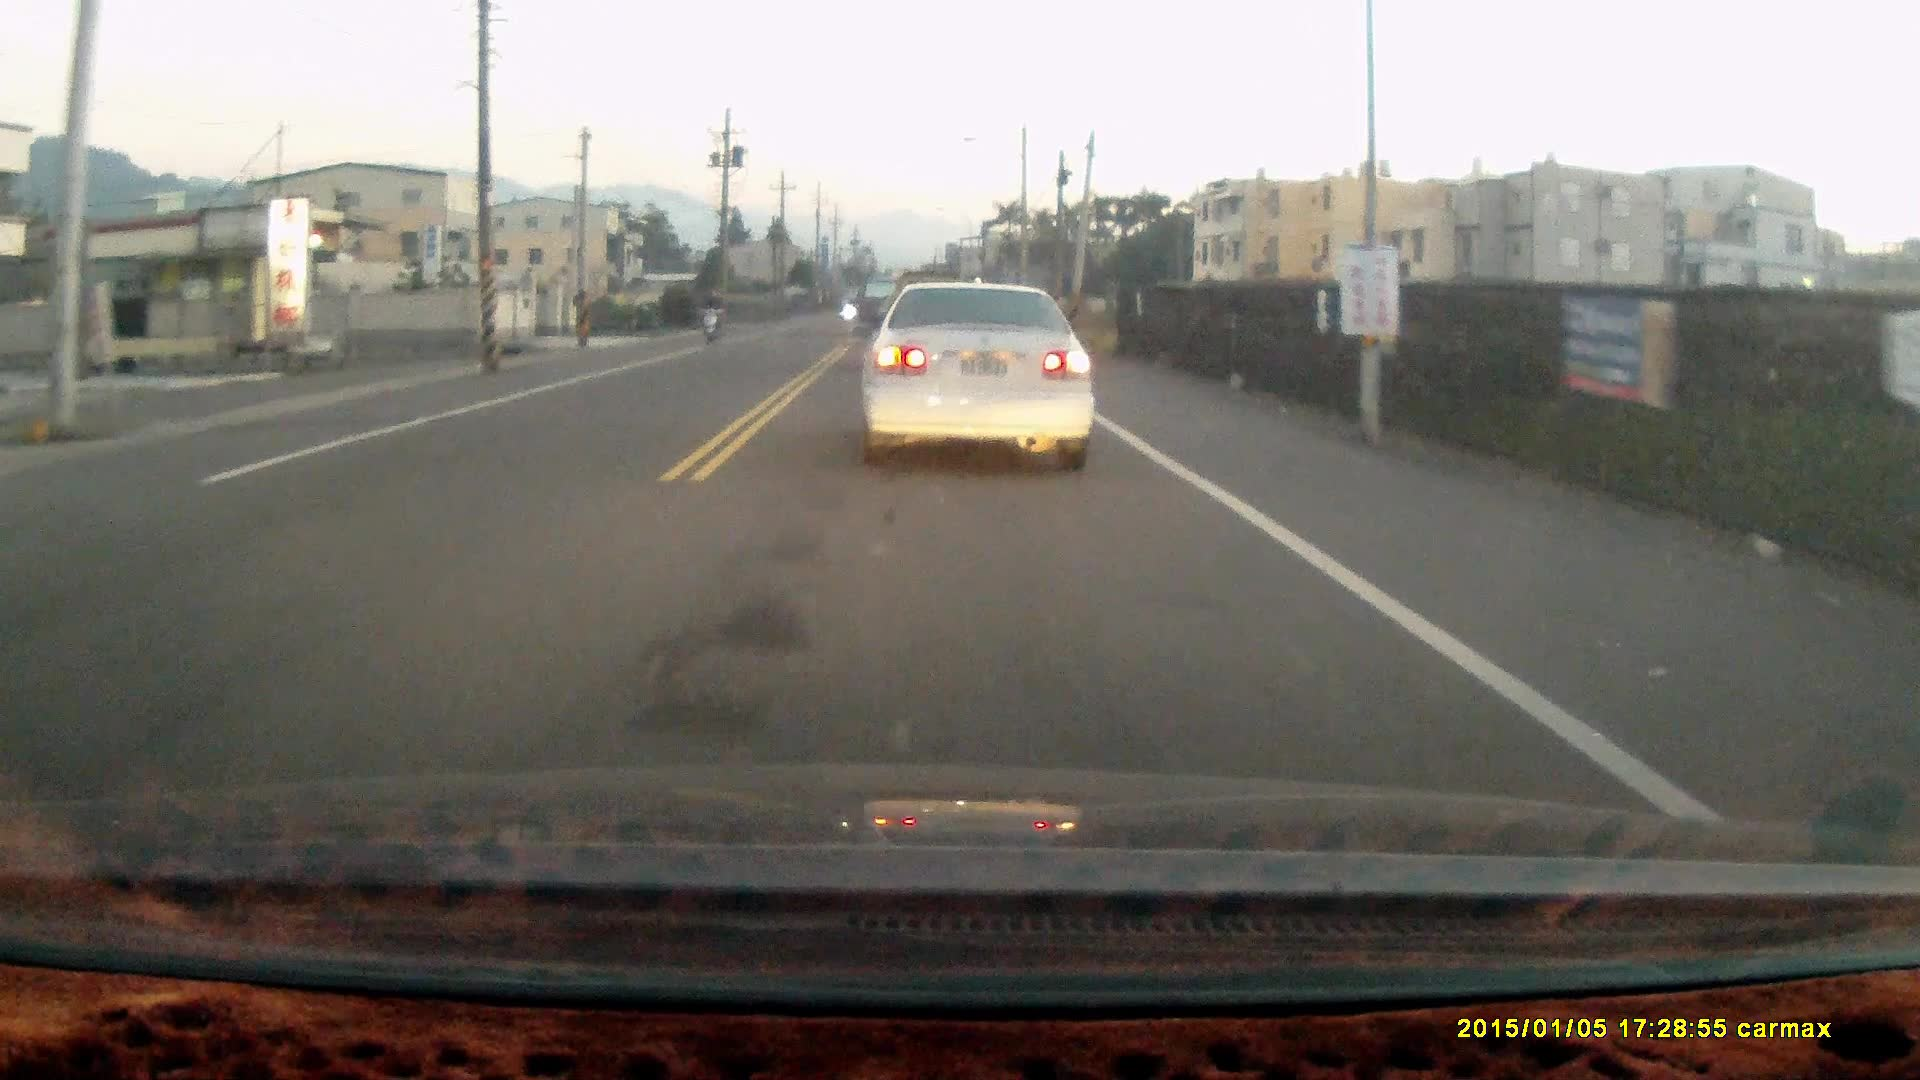rider: (697, 287, 722, 343)
vehicle: (857, 278, 1098, 476)
